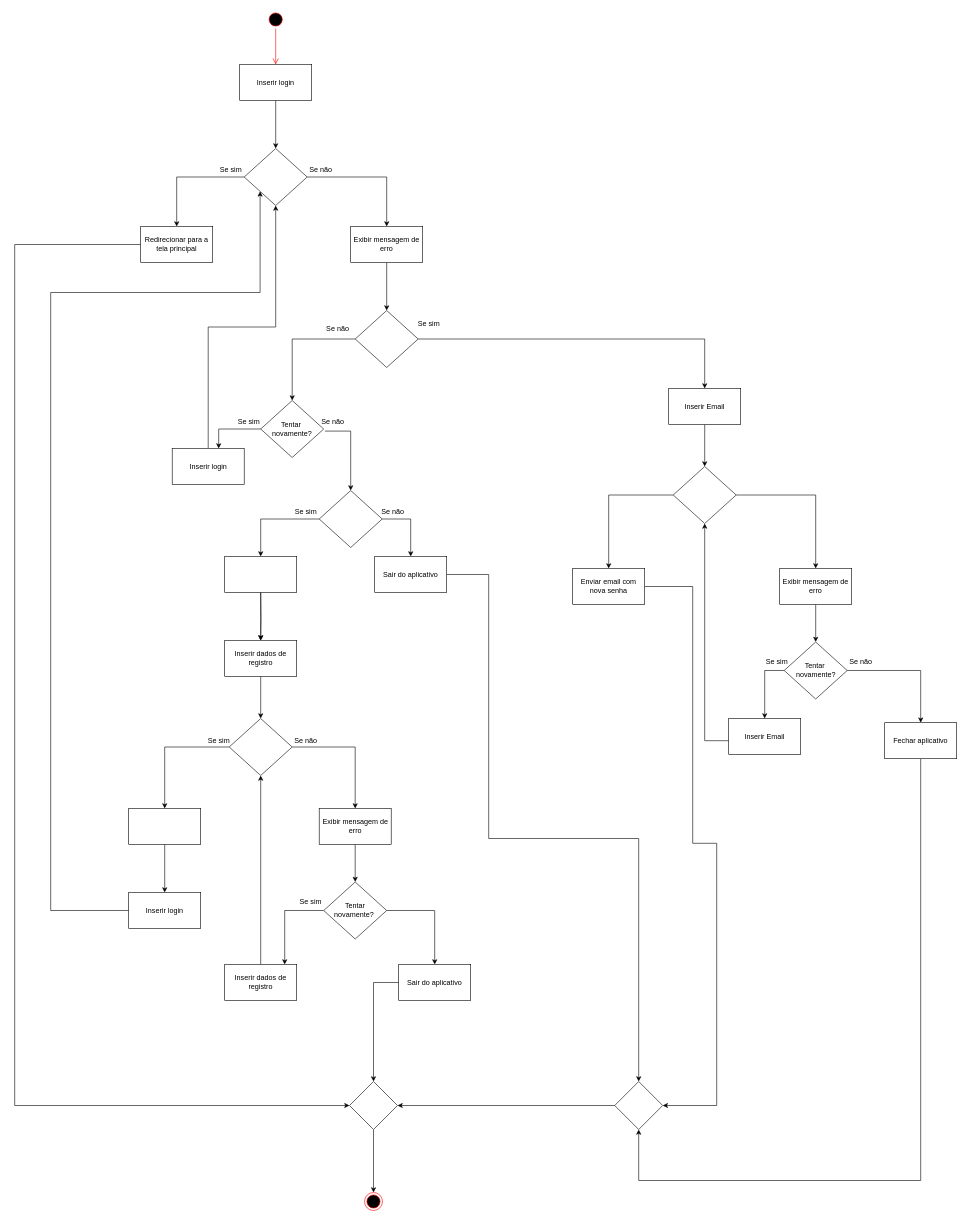
This 967x1221 diagram has some shape labels left out. The box of each missing label's shape, as (x1, y1, x2, y2) in pixels:
Acessar tela de login: (128, 808, 201, 844)
Acessar tela de registro: (224, 556, 297, 592)
Dados validos?: (229, 718, 292, 776)
Email encontrado?: (673, 466, 736, 524)
Login e senha corretos?: (244, 148, 307, 206)
Recuperar senha?: (355, 310, 418, 368)
Registrar?: (319, 490, 382, 548)
